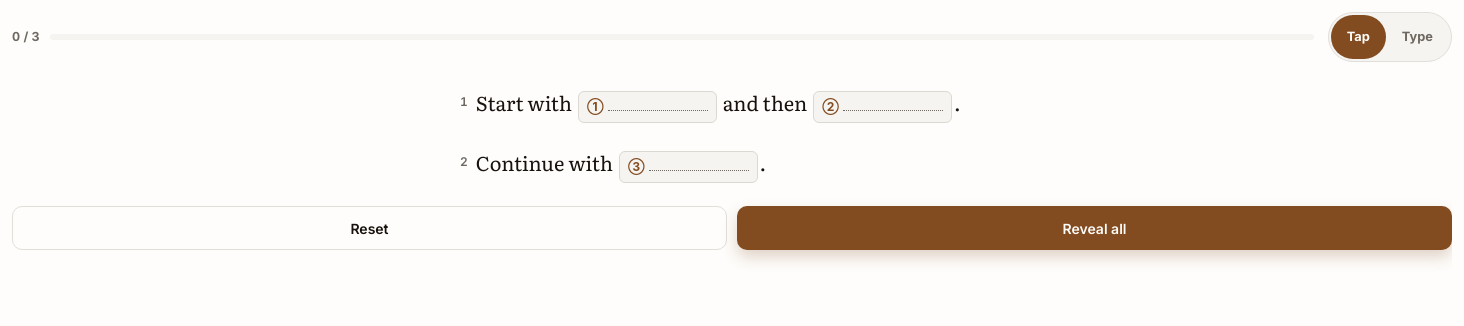
it: ClozeTrainer › checks on blur so on-screen keyboards without Enter still work
This screenshot has width=1464, height=326.
Click the button "Type" at (1417, 37), box [1386,15,1449,59]
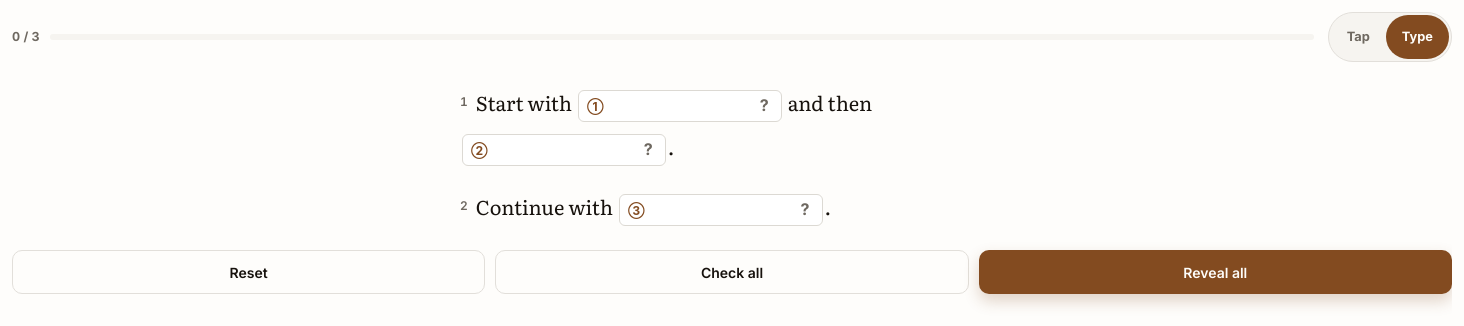
Type "a final marker" into the 2nd field with test id "cloze-input" at (566, 148), box [494,136,638,160]
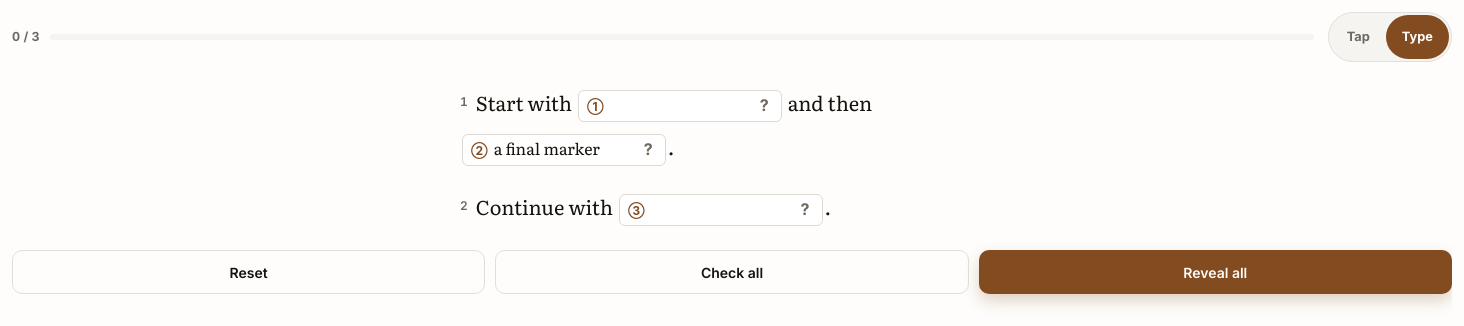
Leave the 2nd field with test id "cloze-input", box [494,136,638,160]
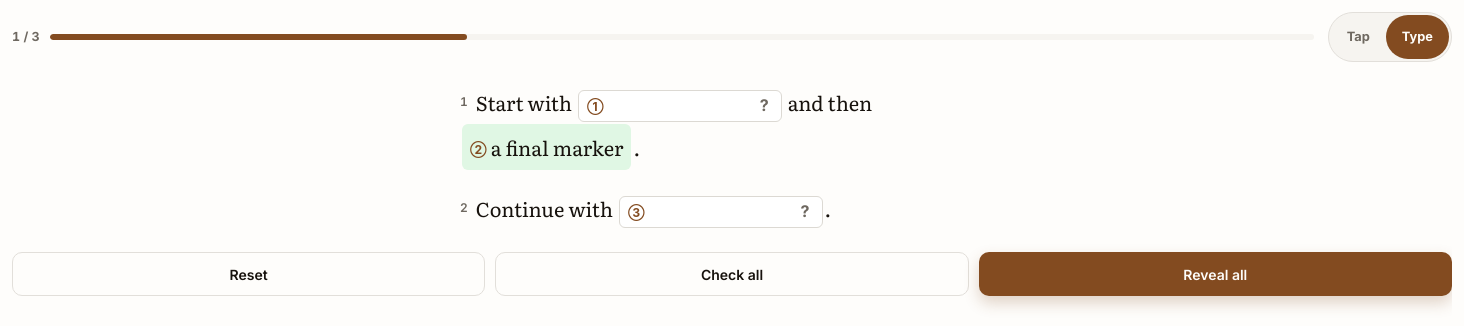
Check: the text "1 / 3" is shown, box [12,28,40,46]
